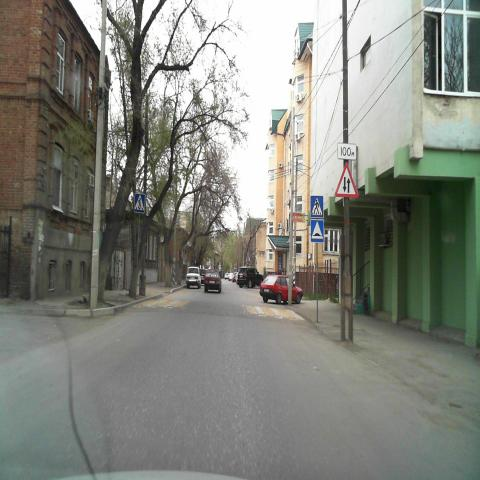1_21: (336, 164, 358, 196)
8_1_1: (337, 143, 357, 161)
